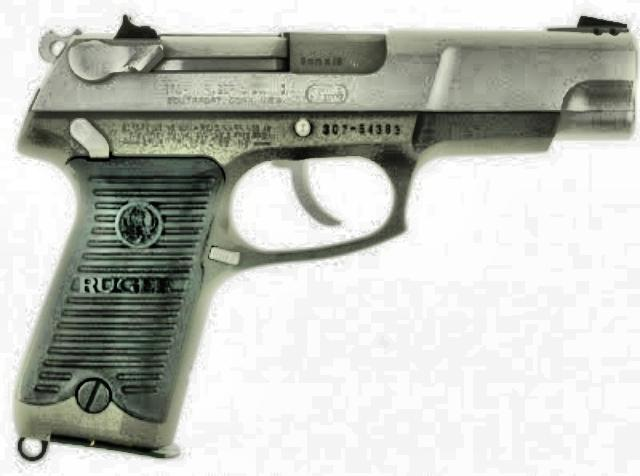pistol: (11, 12, 633, 460)
